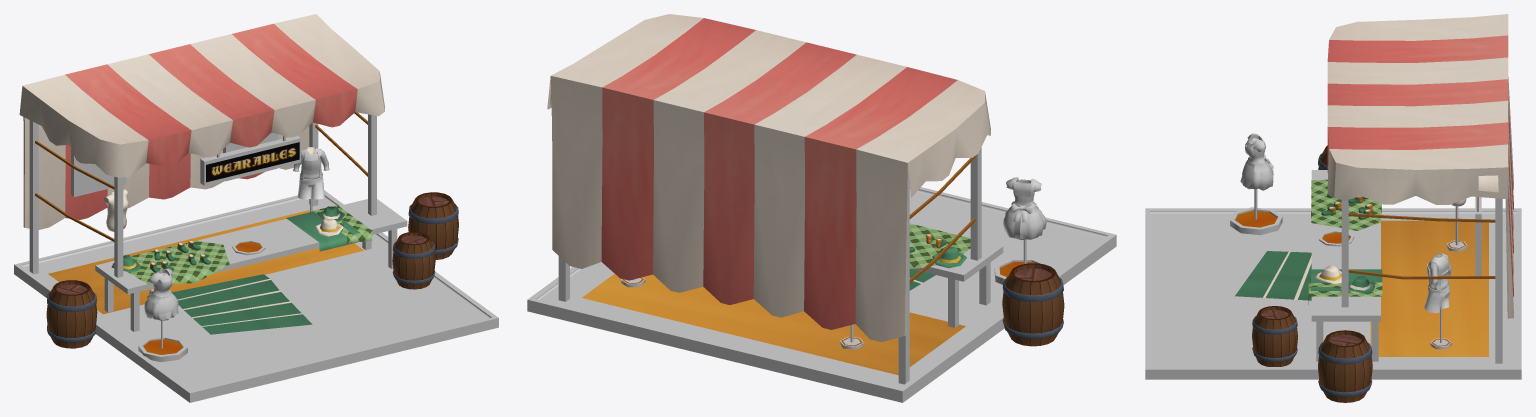
File: Booth_Wearables_Art.fbx
3 renders of one model, left to right at view 1: azimuth 30°, elevation 25°; view 2: azimuth 150°, elevation 25°; view 3: azimuth 270°, elevation 25°, orthographic. The views are drawn at different scales.
Parts seen in each view (by area): view 1: Oktoberfest_Booth_Wearables_Art, Oktoberfest_WearableBooth_Platform01; view 2: Oktoberfest_Booth_Wearables_Art, Oktoberfest_WearableBooth_Platform01; view 3: Oktoberfest_Booth_Wearables_Art, Oktoberfest_WearableBooth_Platform01, Oktoberfest_WearableBooth_Platform01__1_.
Part boxes in pixels (x1=…): Oktoberfest_Booth_Wearables_Art: x1=14, y1=14, x2=498, y2=402; Oktoberfest_WearableBooth_Platform01: x1=138, y1=336, x2=187, y2=362; Oktoberfest_Booth_Wearables_Art: x1=527, y1=14, x2=1116, y2=402; Oktoberfest_WearableBooth_Platform01: x1=994, y1=258, x2=1050, y2=284; Oktoberfest_Booth_Wearables_Art: x1=1145, y1=14, x2=1521, y2=402; Oktoberfest_WearableBooth_Platform01: x1=1230, y1=207, x2=1282, y2=235; Oktoberfest_WearableBooth_Platform01__1_: x1=1319, y1=230, x2=1354, y2=246.
Size of what is drawn, in the model's own units: 868 by 394 by 651.
